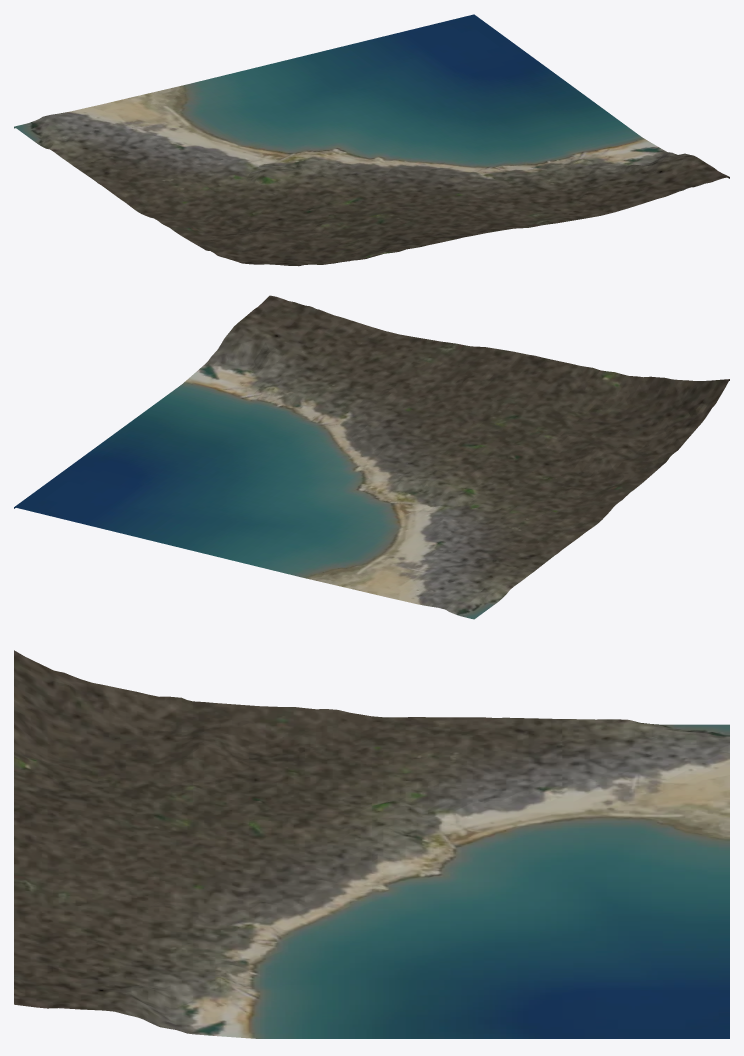
3 renders of one model, top to bottom at view 1: azimuth 30°, elevation 25°; view 2: azimuth 150°, elevation 25°; view 3: azimuth 270°, elevation 25°, orthographic. The views are drawn at different scales.
Bounding box in the file's own units: 250 × 28.67 × 241.
Materials: 1 (1 with a texture image).
